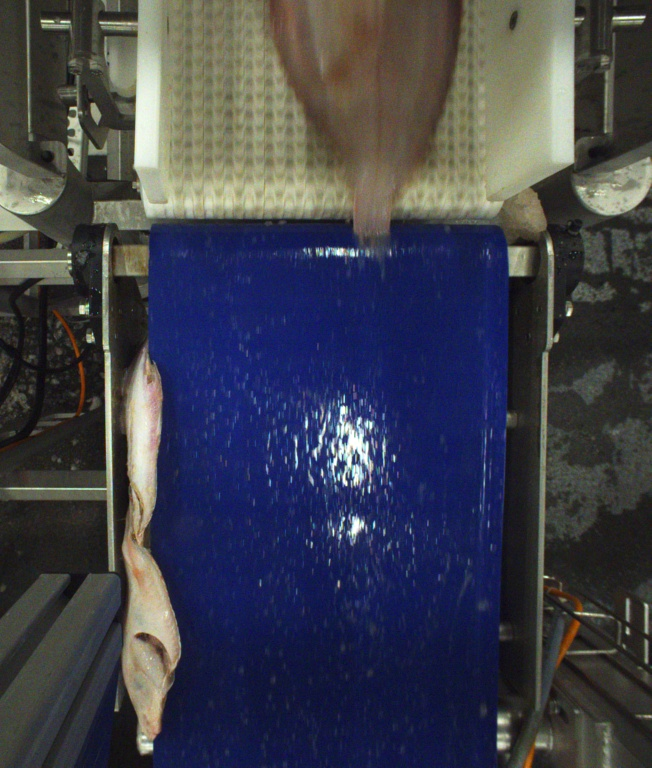SOL: (267, 0, 463, 244)
